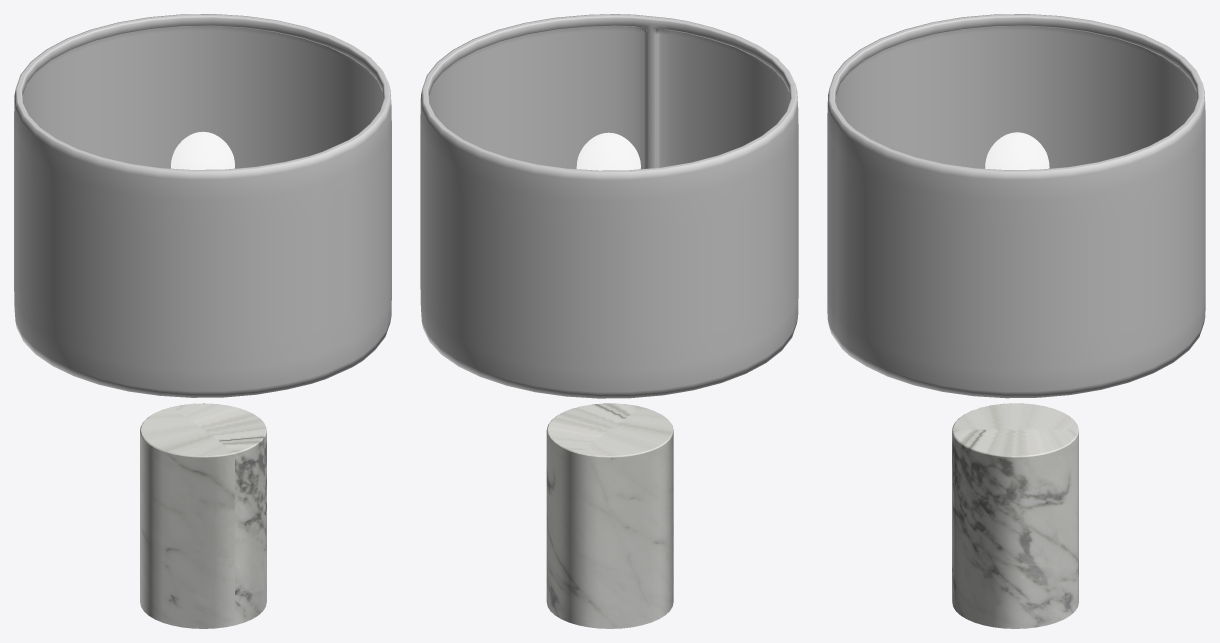
File: BREZY.glb
The picture shows the model from 3 angles, left to right: view 1: azimuth 30°, elevation 25°; view 2: azimuth 150°, elevation 25°; view 3: azimuth 270°, elevation 25°; orthographic projection.
Parts seen in each view (by area): view 1: Head, Base, Lamp; view 2: Head, Base, Lamp; view 3: Head, Base, Lamp.
Part boxes in pixels (box(x1,y1,x2,y2)): Head: box(14, 14, 391, 397); Base: box(140, 403, 266, 628); Lamp: box(171, 131, 234, 169); Head: box(420, 14, 798, 398); Base: box(546, 403, 673, 628); Lamp: box(576, 132, 640, 170); Head: box(827, 14, 1205, 398); Base: box(952, 403, 1078, 628); Lamp: box(985, 132, 1049, 169).
Size of the model in its own units: 0.1882 by 0.2795 by 0.1884.
Materials: 2 (1 with a texture image).
